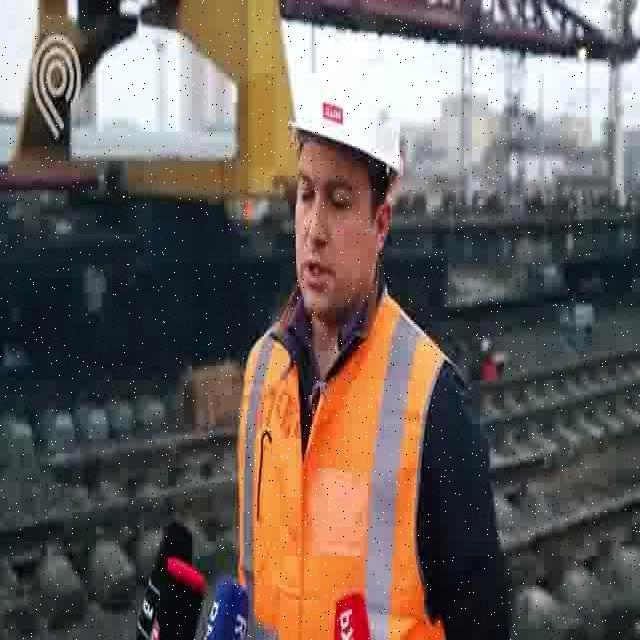Hard_hat: (286, 58, 402, 179)
Person: (239, 52, 496, 640)
Vest: (236, 319, 442, 635)
